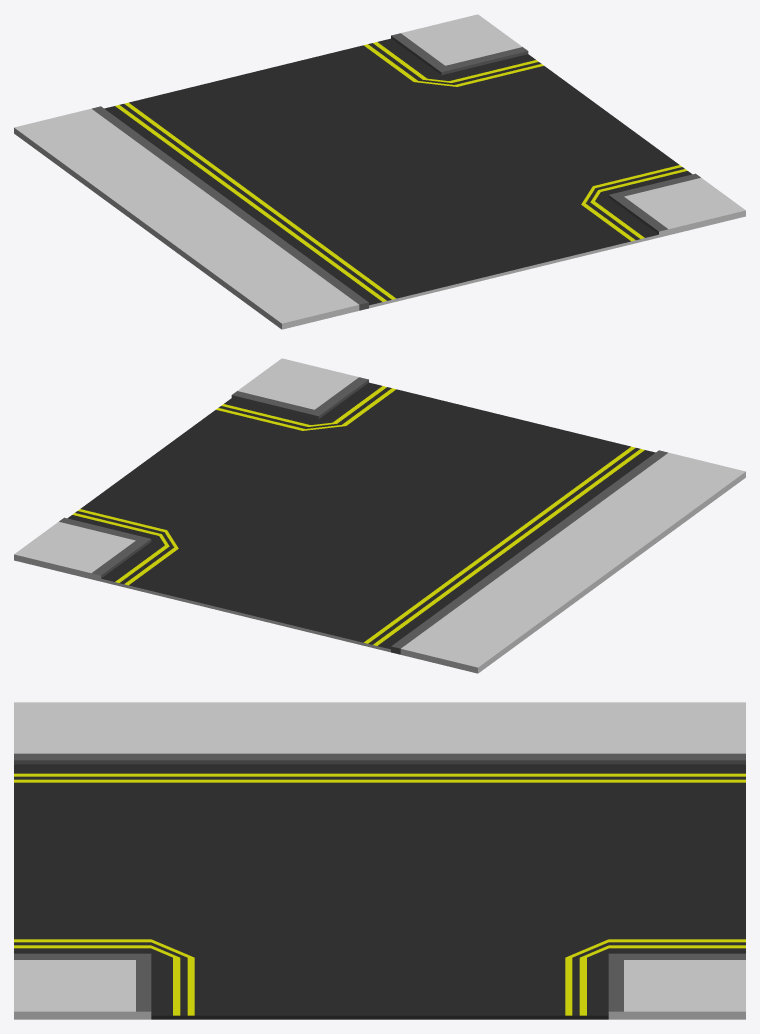
The model's file is m_e_s_road_3_intersection.fbx.
3 views of the same model, one above another, from view 1: azimuth 30°, elevation 25°; view 2: azimuth 150°, elevation 25°; view 3: azimuth 270°, elevation 25° (orthographic). The views are drawn at different scales.
Visible parts, largest first — view 1: Cube.004, Cube.001, Cube.000, Cube.002; view 2: Cube.004, Cube.001, Cube.002, Cube.000; view 3: Cube.004, Cube.001, Cube.002, Cube.000.
Part boxes in pixels (bbox=[...]): Cube.004: bbox=[104, 38, 692, 308]; Cube.001: bbox=[14, 106, 368, 329]; Cube.000: bbox=[608, 173, 745, 237]; Cube.002: bbox=[391, 14, 528, 75]; Cube.004: bbox=[67, 382, 655, 652]; Cube.001: bbox=[391, 450, 745, 673]; Cube.002: bbox=[14, 517, 151, 581]; Cube.000: bbox=[231, 358, 368, 419]; Cube.004: bbox=[14, 764, 745, 1019]; Cube.001: bbox=[14, 702, 745, 764]; Cube.002: bbox=[608, 953, 745, 1019]; Cube.000: bbox=[14, 953, 151, 1019].
Size of the model in its own units: 1600 by 20 by 1600.
